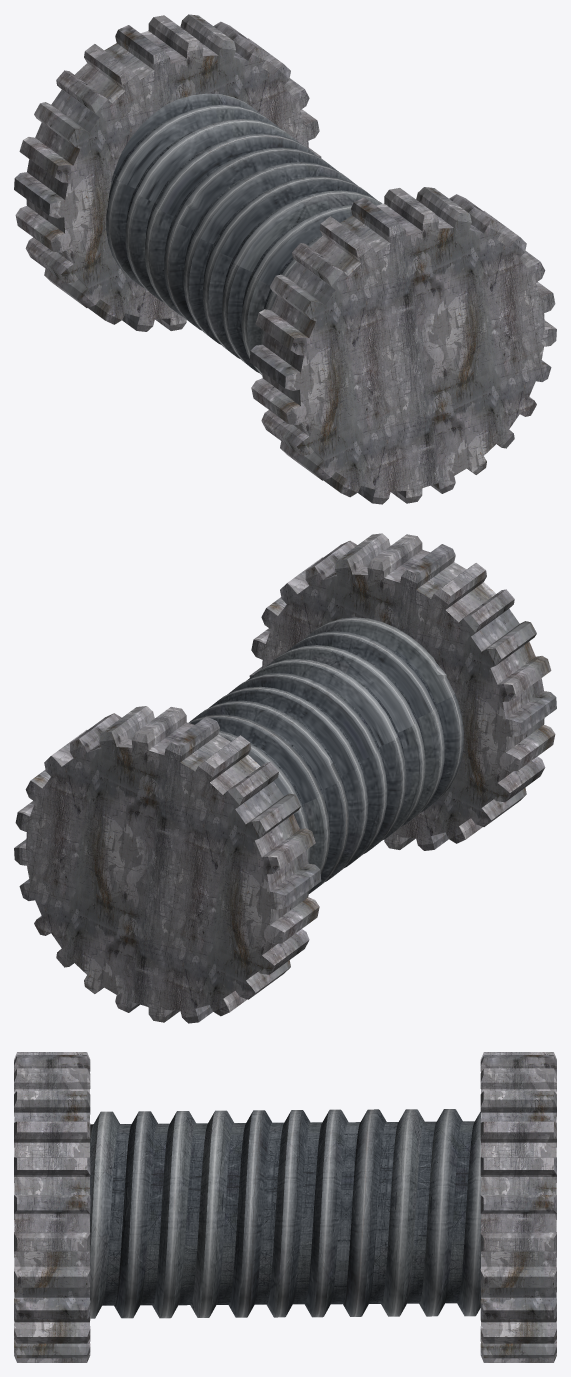
File: Monolithic_Gears.FBX
3 renders of one model, top to bottom at view 1: azimuth 30°, elevation 25°; view 2: azimuth 150°, elevation 25°; view 3: azimuth 270°, elevation 25°, orthographic.
Visible parts, largest first — view 1: Monolithic_Screw_Connector00, Monolithic_Screw01; view 2: Monolithic_Screw_Connector00, Monolithic_Screw01; view 3: Monolithic_Screw01, Monolithic_Screw_Connector00.
Boxes of the visible parts, x1=… form: Monolithic_Screw_Connector00: x1=14, y1=14, x2=556, y2=504; Monolithic_Screw01: x1=106, y1=93, x2=382, y2=374; Monolithic_Screw_Connector00: x1=14, y1=533, x2=556, y2=1023; Monolithic_Screw01: x1=188, y1=617, x2=463, y2=893; Monolithic_Screw01: x1=90, y1=1109, x2=480, y2=1318; Monolithic_Screw_Connector00: x1=14, y1=1052, x2=556, y2=1362.
Bounding box in the file's own units: 570 × 570 × 995.
